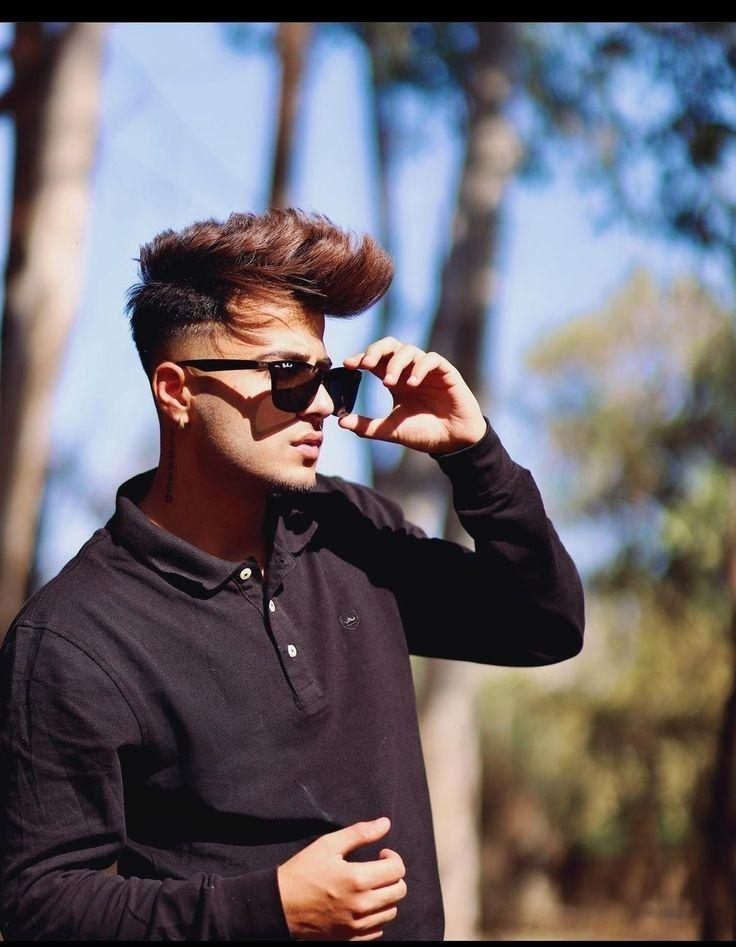sunglasses: (238, 343, 390, 440)
